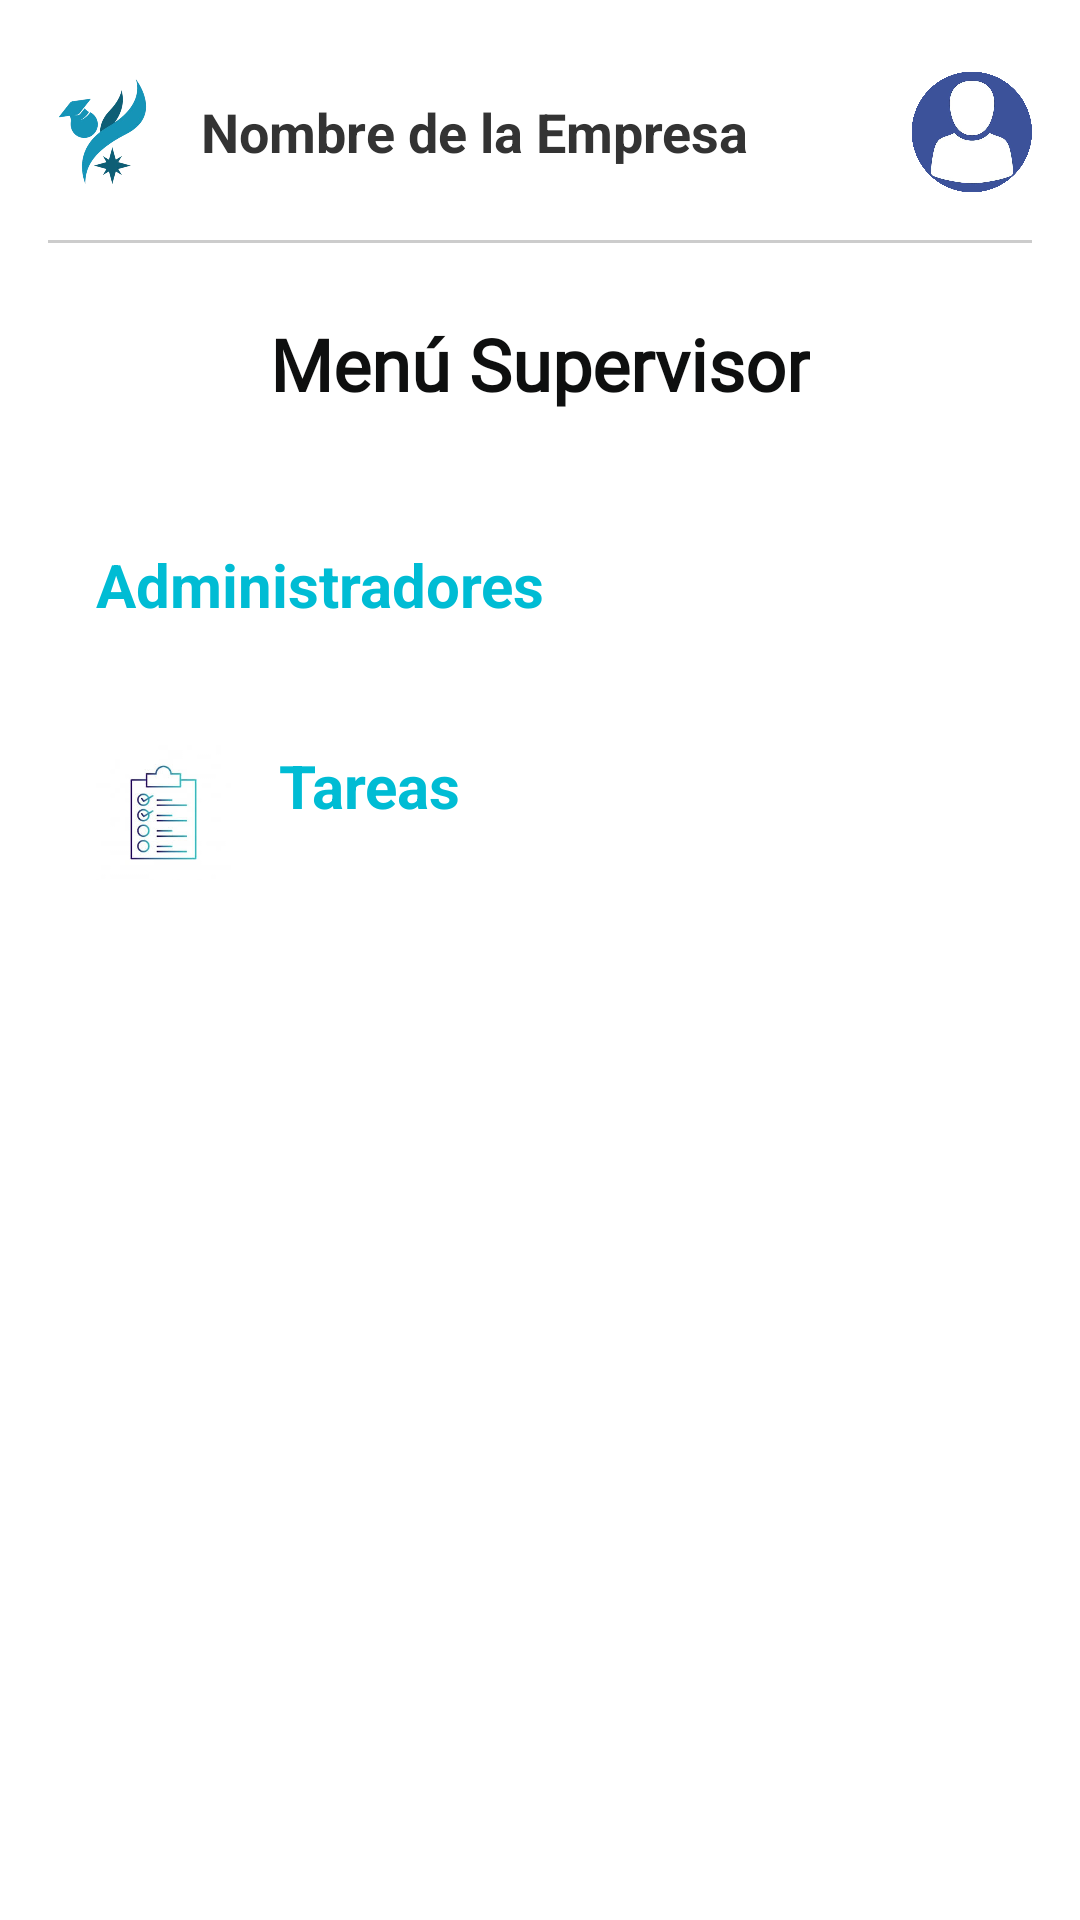

Named icons in this screenshot (1080×1920) and their centers, [x,y]:
Icono de perfil: [972,132]
